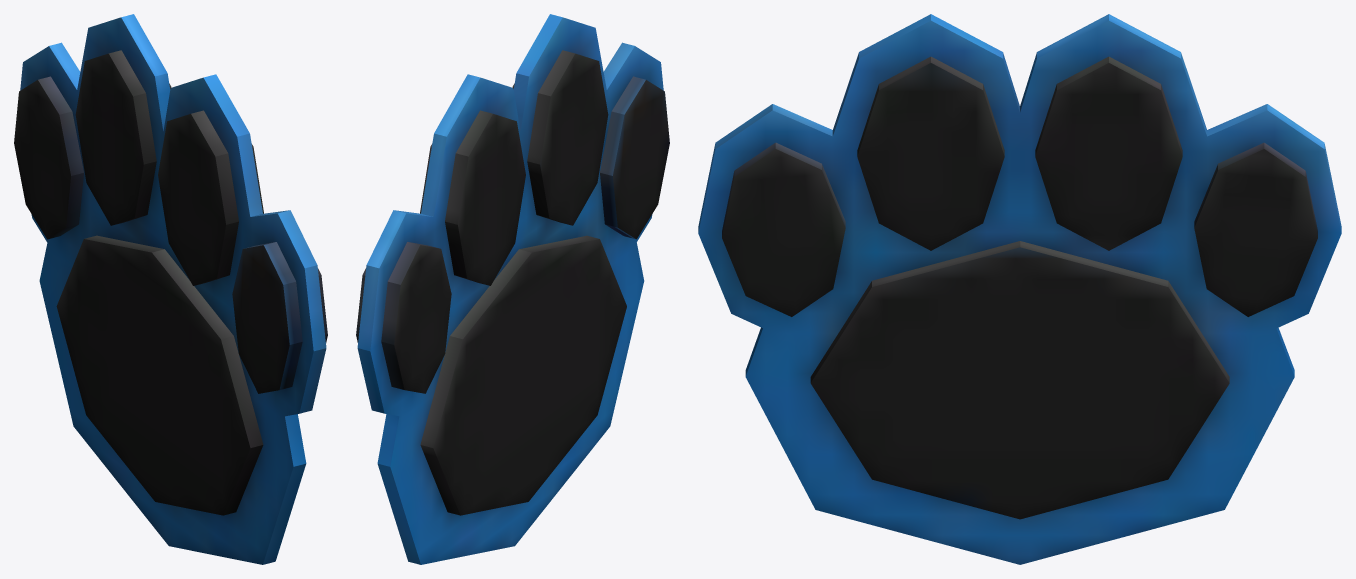
The model's file is PAW BADGE.fbx.
3 renders of one model, left to right at view 1: azimuth 30°, elevation 25°; view 2: azimuth 150°, elevation 25°; view 3: azimuth 270°, elevation 25°, orthographic. The views are drawn at different scales.
Parts seen in each view (by area): view 1: PAW_BADGE; view 2: PAW_BADGE; view 3: PAW_BADGE.
Part boxes in pixels (left/top/right/bottom): PAW_BADGE: left=14, top=14, right=327, bottom=564; PAW_BADGE: left=356, top=14, right=669, bottom=564; PAW_BADGE: left=698, top=14, right=1341, bottom=564.
Size of the model in its own units: 1.14 by 12.49 by 13.46.
